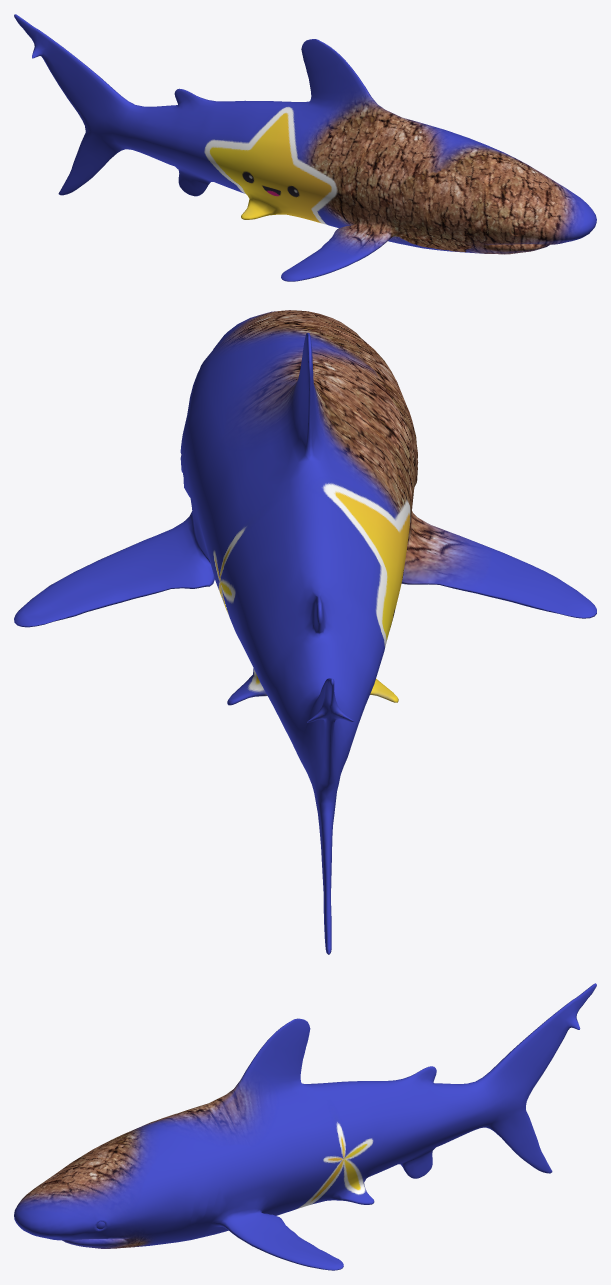
3 views of the same model, one above another, from view 1: azimuth 30°, elevation 25°; view 2: azimuth 150°, elevation 25°; view 3: azimuth 270°, elevation 25° (orthographic). The views are drawn at different scales.
Parts seen in each view (by area): view 1: node_id36; view 2: node_id36; view 3: node_id36.
Boxes of the visible parts, <box> form: node_id36: <box>14,14,596,281</box>; node_id36: <box>14,310,596,954</box>; node_id36: <box>14,983,596,1270</box>.
Size of the model in its own units: 0.5912 by 0.3804 by 0.9059.
Materials: 1 (1 with a texture image).
